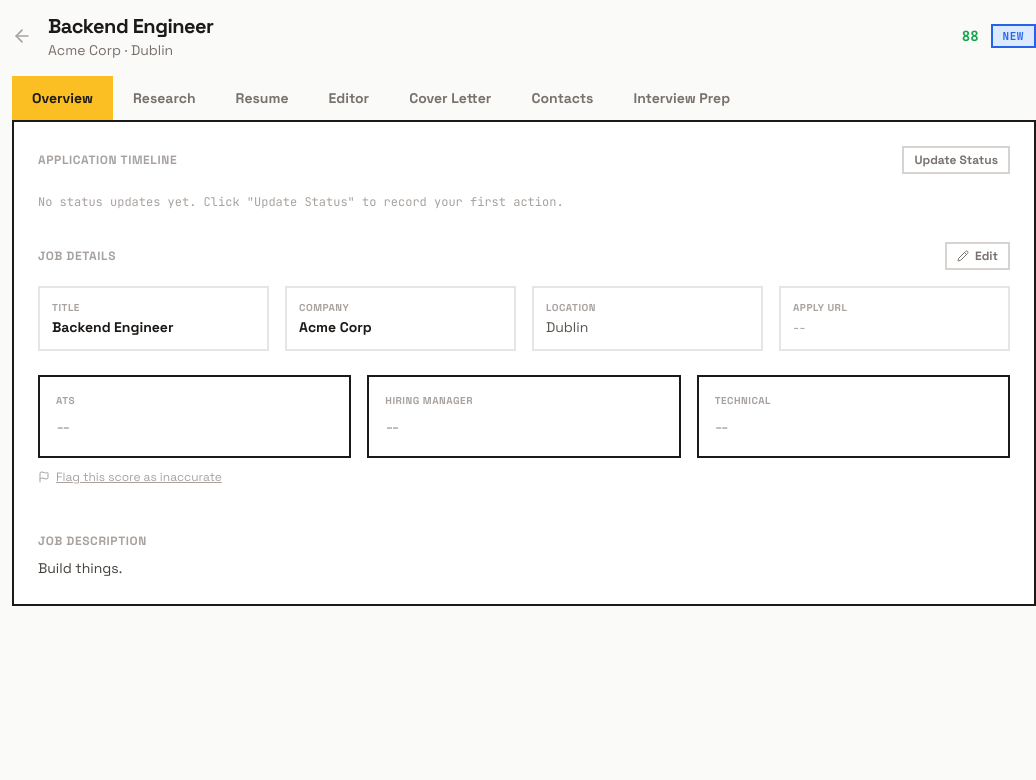
Scenario: Contacts tab › says so when the search finished and found nobody
Click the button "Contacts" at [562, 98], box [511, 76, 614, 120]
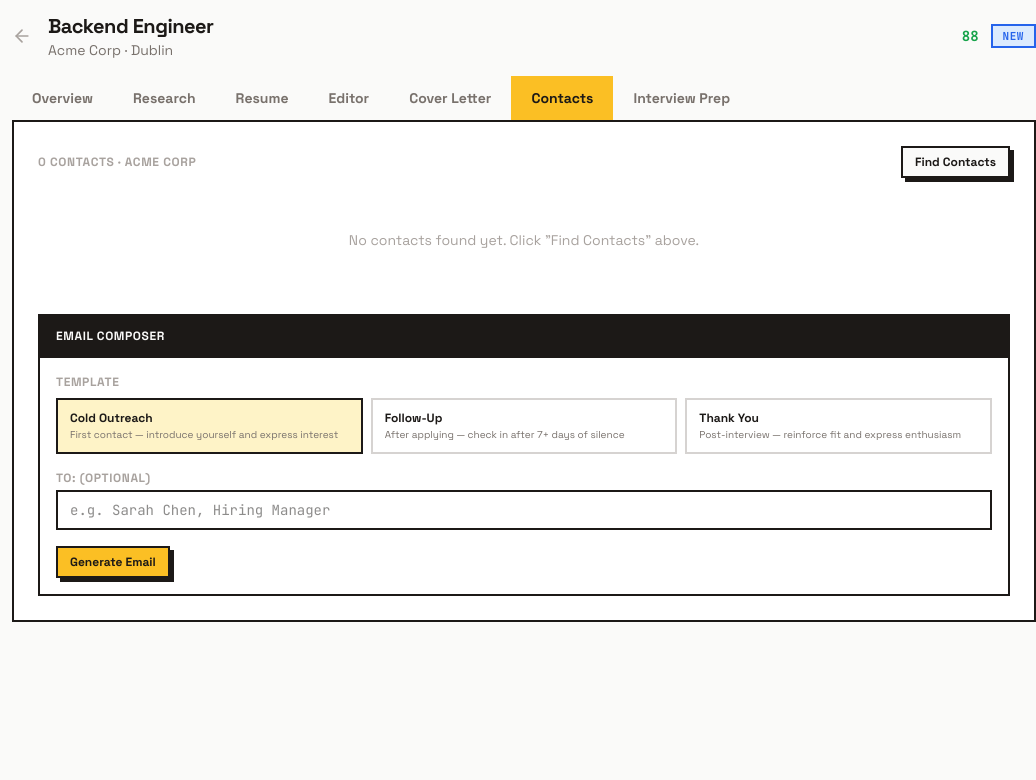
Click the button "Find Contacts" at [956, 162], box [901, 146, 1010, 178]
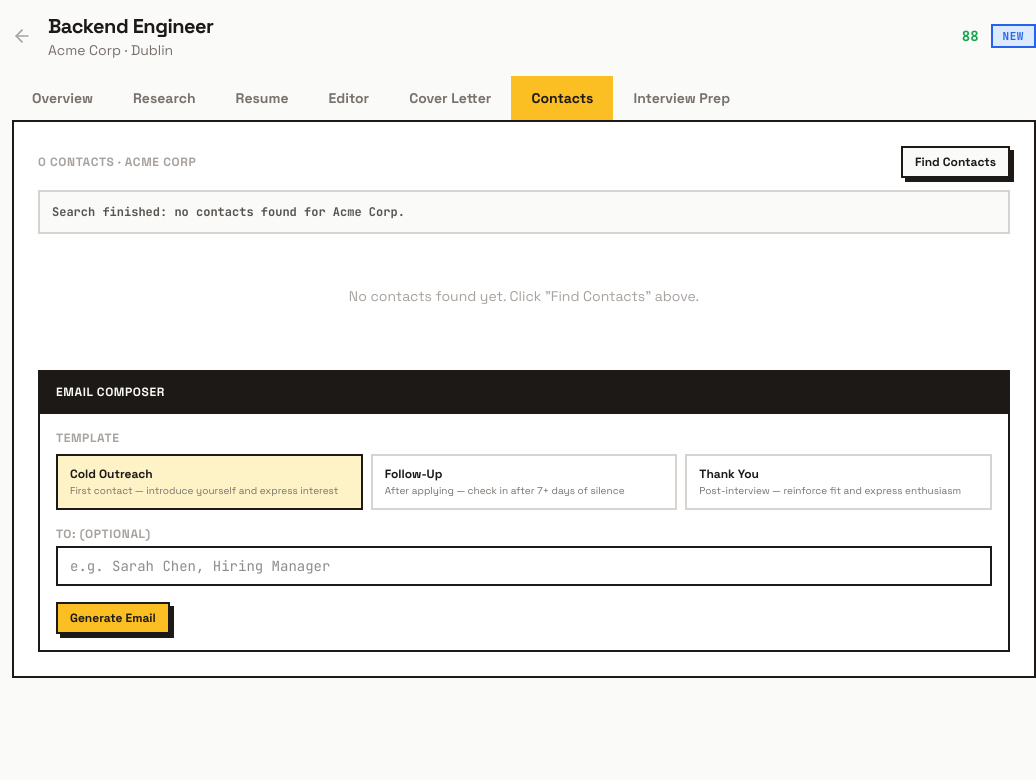
Expected: the button "Find Contacts" is shown, [901, 146, 1010, 178]
Expected: the text "Search finished: no contacts found for Acme Corp." is shown, [38, 190, 1010, 234]
